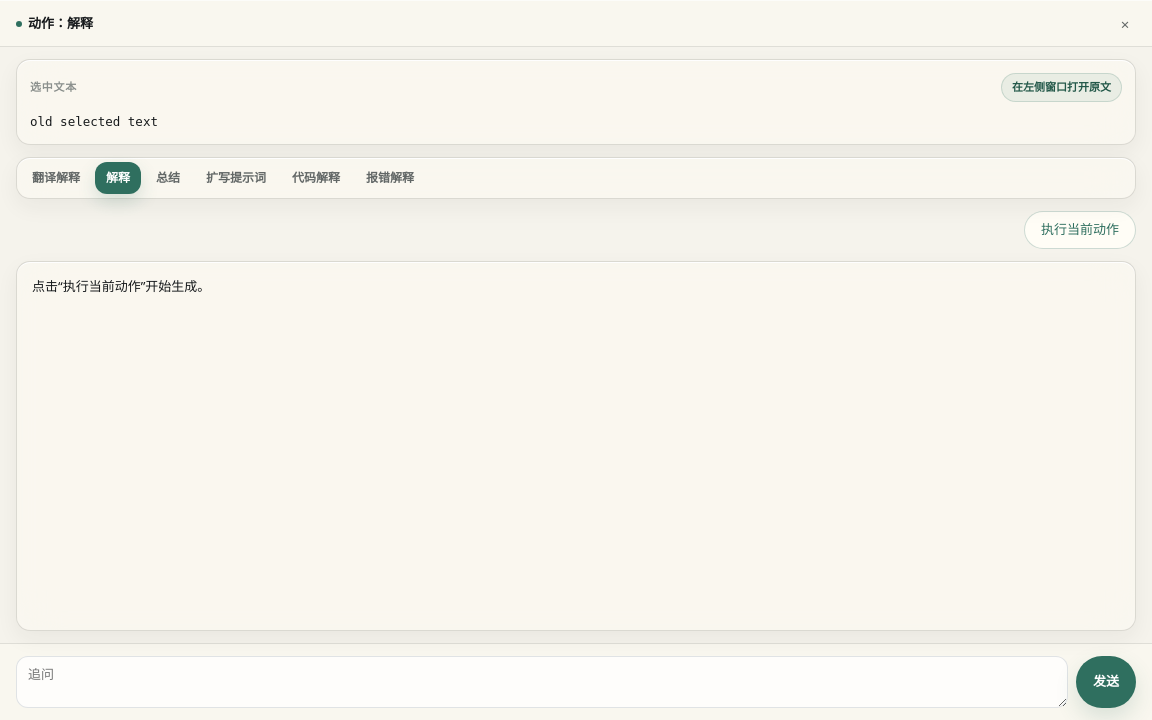
Scenario: AiPanel Tauri event lifecycle › uses the latest stored selection before executing when the visible context is stale
Click the button "执行当前动作" at (1080, 230), box [1024,211,1136,249]
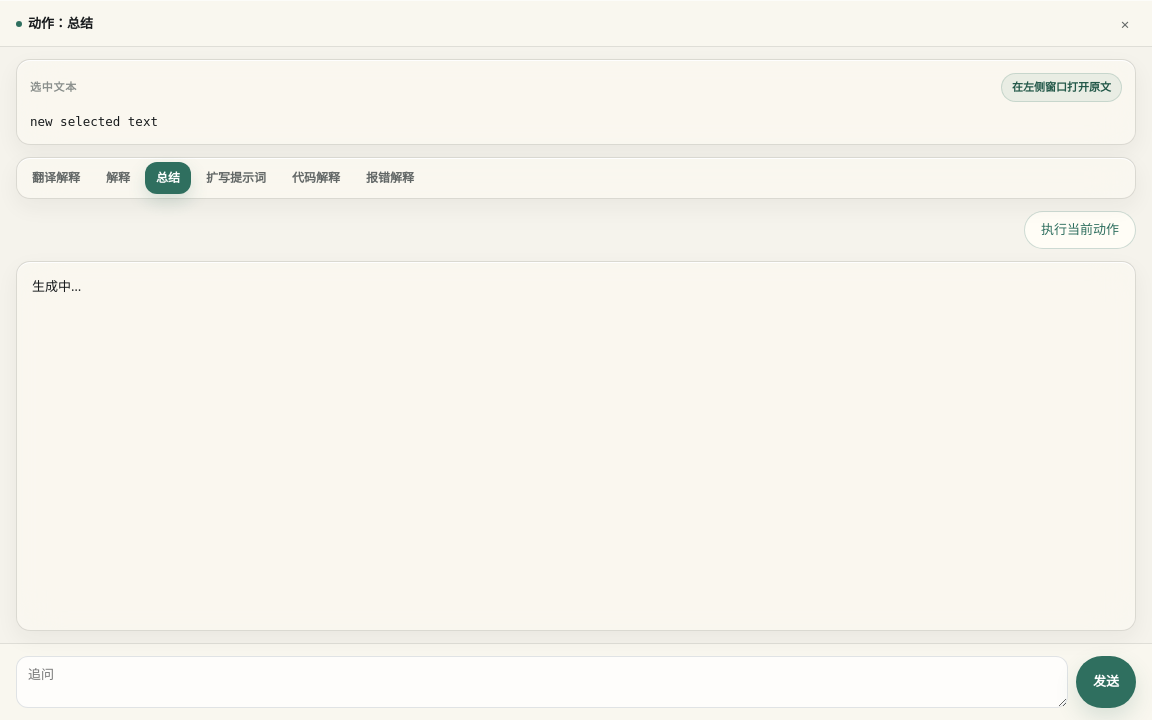
Check: the text "new selected text" is shown, box [30,114,158,128]
